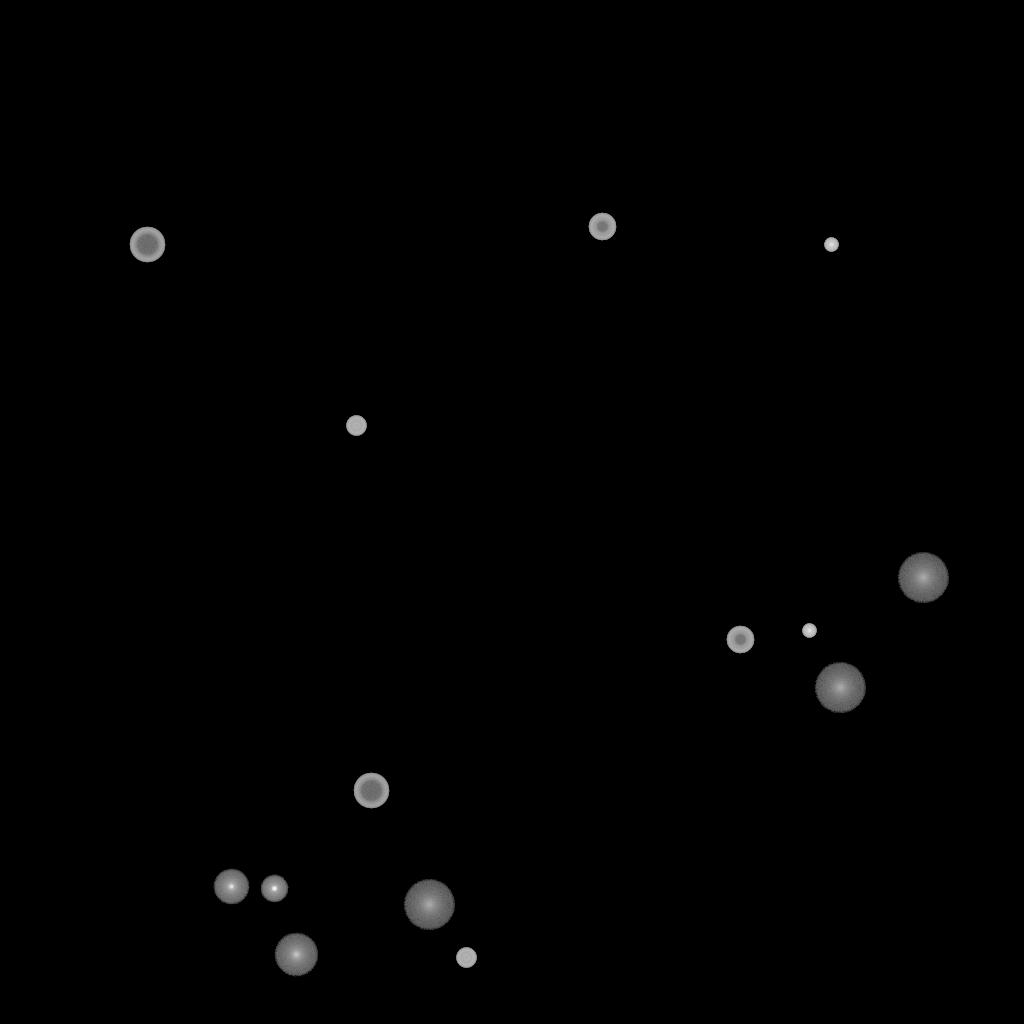depth:-10: (260, 875, 288, 903)
depth:-30: (802, 624, 816, 638), (824, 238, 838, 252)
depth:-40: (346, 416, 366, 436), (456, 948, 476, 968)
depth:-50: (726, 626, 754, 654), (588, 213, 616, 241)
depth:-60: (353, 773, 389, 809), (129, 227, 165, 263)
depth:0: (213, 869, 249, 905)
depth:10: (274, 933, 318, 977)
depth:20: (814, 663, 866, 713), (897, 553, 949, 603), (403, 880, 455, 930)
